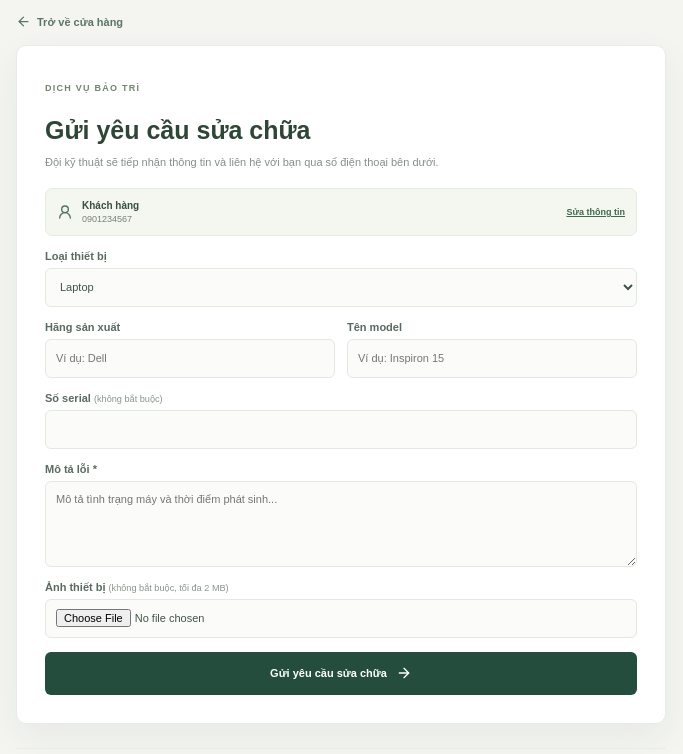
Test case: StoreRepairPage › submits the customer device and issue details
Type "Dell" into the field labelled "Hãng sản xuất" at (190, 358), box [45,339,335,378]
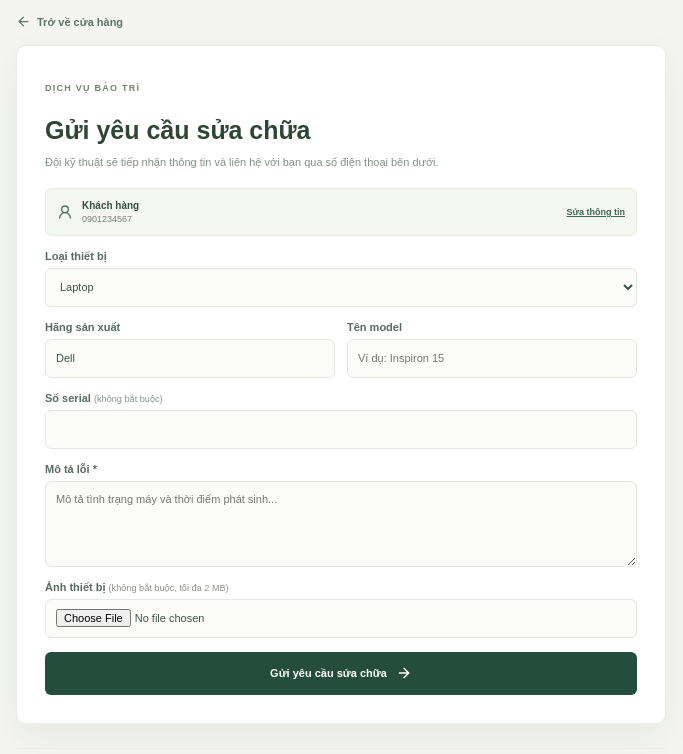
Type "Inspiron 15" into the field labelled "Tên model" at (492, 358), box [347,339,637,378]
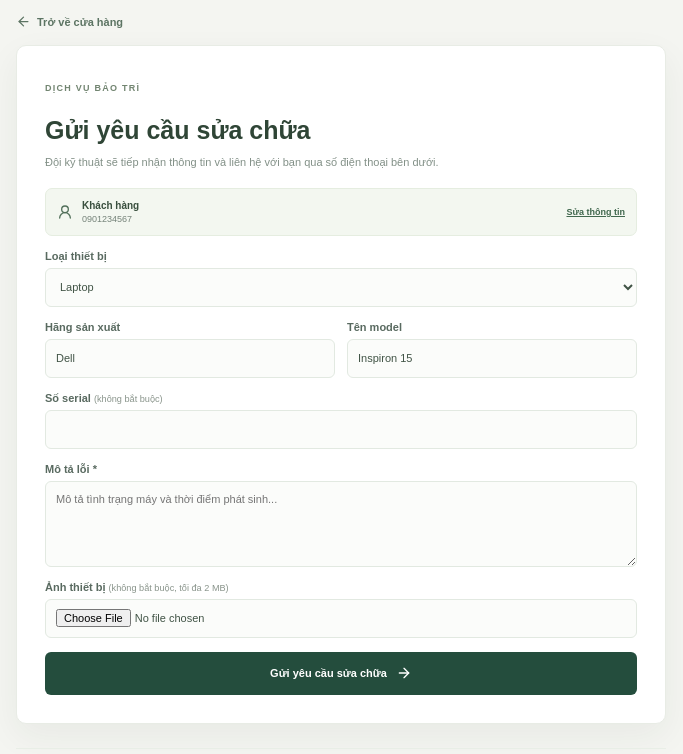
Type "SN-TEST" into the field labelled "Số serial (không bắt buộc)" at (341, 429), box [45,410,637,449]
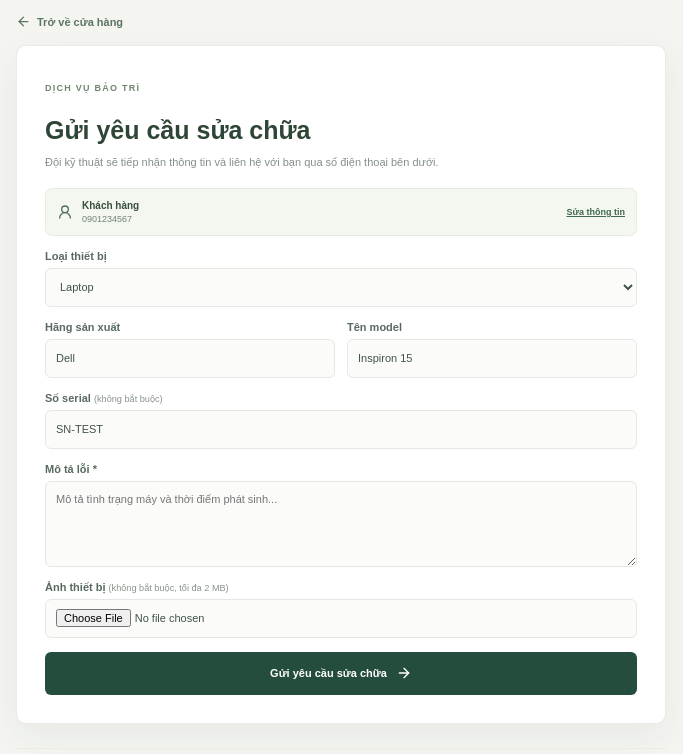
Type "Máy không khởi động" into the text box labelled "Mô tả lỗi *" at (341, 524), box [45,481,637,567]
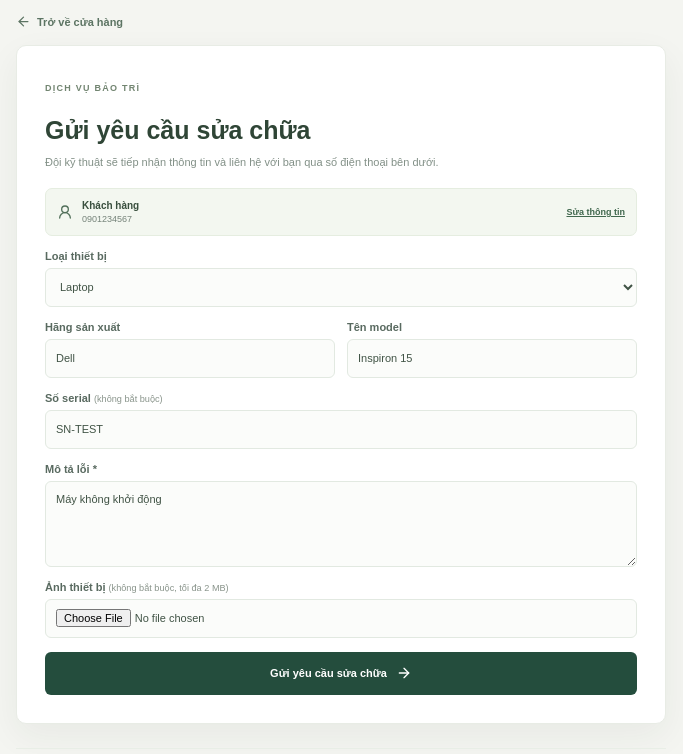
Click the button "Gửi yêu cầu sửa chữa" at (341, 673), box [45,652,637,695]
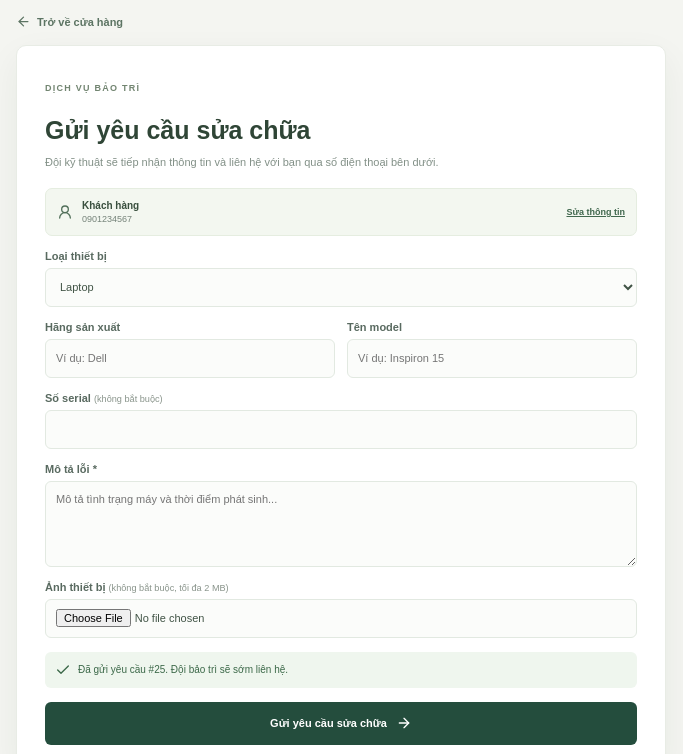
Result: the text "Đã gửi yêu cầu #25. Đội bảo trì sẽ sớm liên hệ." is shown at [45,652,637,688]
